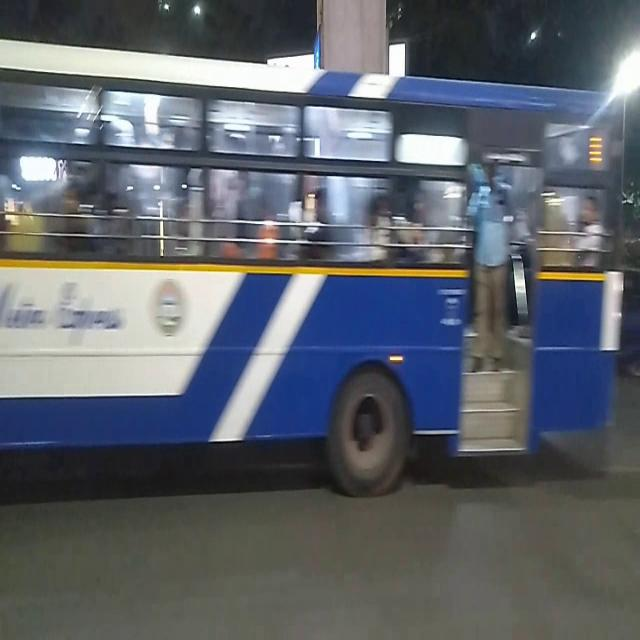bus: (0, 30, 626, 496)
person: (471, 158, 513, 383)
road: (0, 460, 640, 640)
